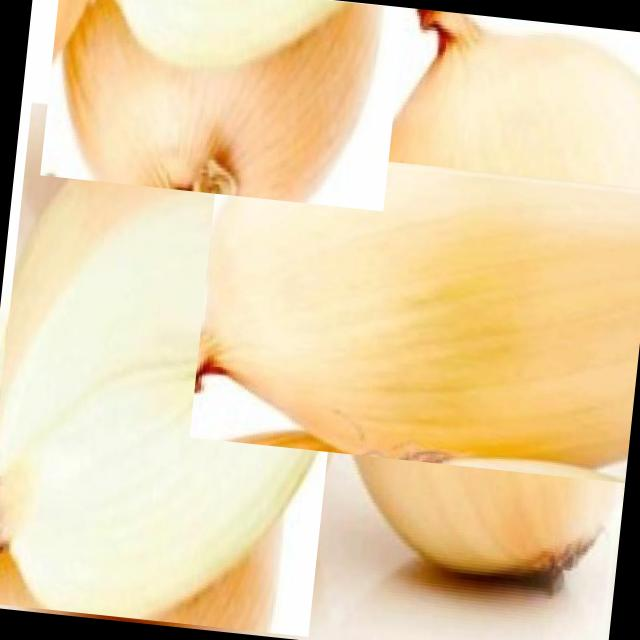Onion: (0, 101, 361, 636), (251, 80, 640, 551), (38, 0, 404, 211)
